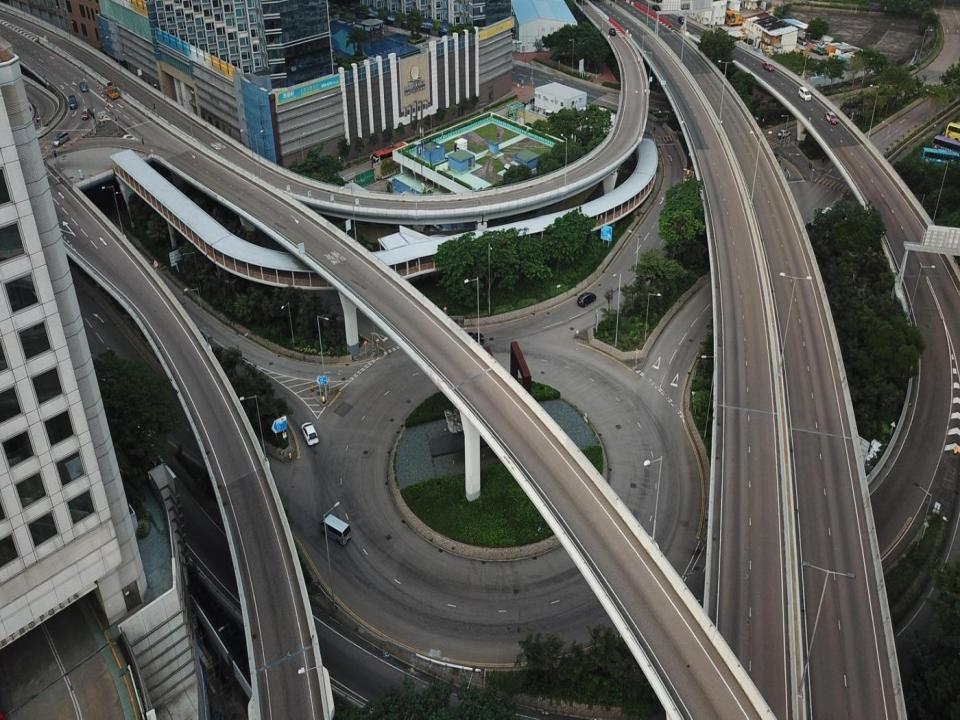bus: (369, 140, 409, 172), (920, 147, 960, 172), (930, 134, 960, 158), (943, 121, 960, 144), (869, 3, 885, 12)
car: (300, 422, 318, 446), (462, 332, 484, 345), (577, 292, 596, 307), (52, 132, 70, 147), (824, 111, 838, 124), (763, 61, 774, 71), (81, 108, 90, 120), (80, 82, 88, 92)
truck: (102, 80, 118, 99), (809, 43, 826, 56), (756, 46, 771, 60), (726, 14, 742, 26), (730, 13, 744, 24)
van: (320, 514, 351, 546), (798, 87, 811, 101), (68, 94, 76, 110), (778, 128, 790, 138), (796, 36, 807, 46), (609, 28, 616, 36), (653, 4, 661, 11), (678, 16, 685, 24), (800, 1, 810, 6), (830, 3, 838, 7)
